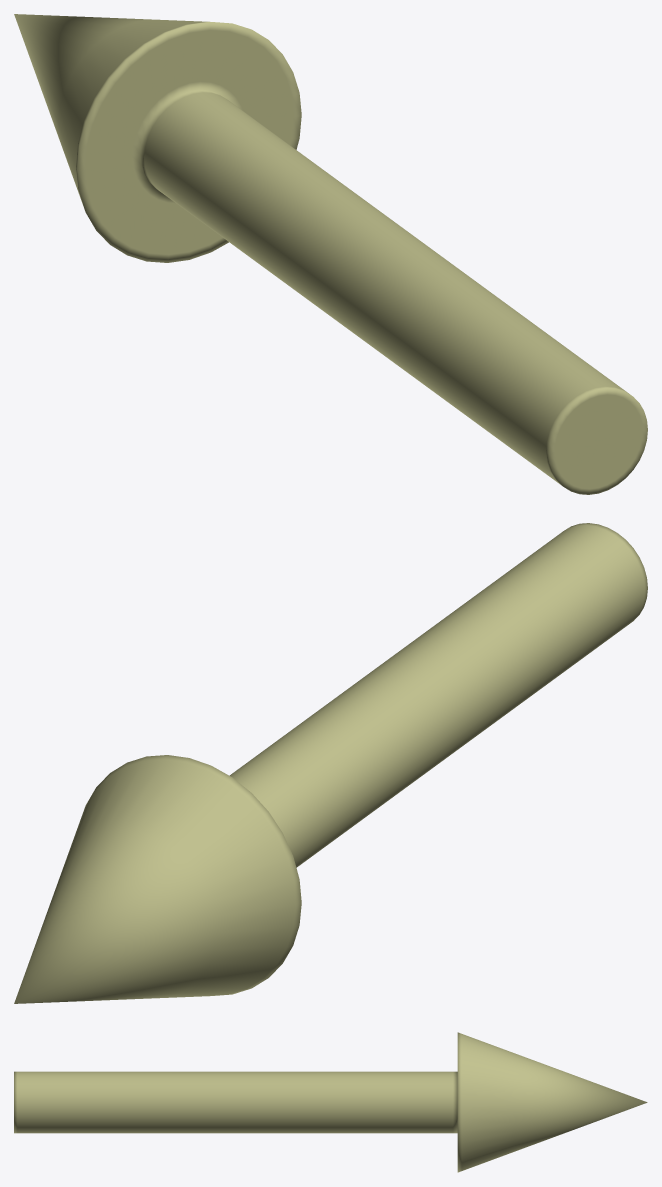
Rendered from arrow.obj.
3 renders of one model, top to bottom at view 1: azimuth 30°, elevation 25°; view 2: azimuth 150°, elevation 25°; view 3: azimuth 270°, elevation 25°, orthographic. The views are drawn at different scales.
Visible parts, largest first — view 1: ArrowX_Cone; view 2: ArrowX_Cone; view 3: ArrowX_Cone.
Boxes of the visible parts, x1,y1,x2,y2 form: ArrowX_Cone: (14,14,647,494); ArrowX_Cone: (14,523,647,1003); ArrowX_Cone: (14,1032,647,1172).
Bounding box in the file's own units: 0.2028 × 0.2028 × 0.9144.
